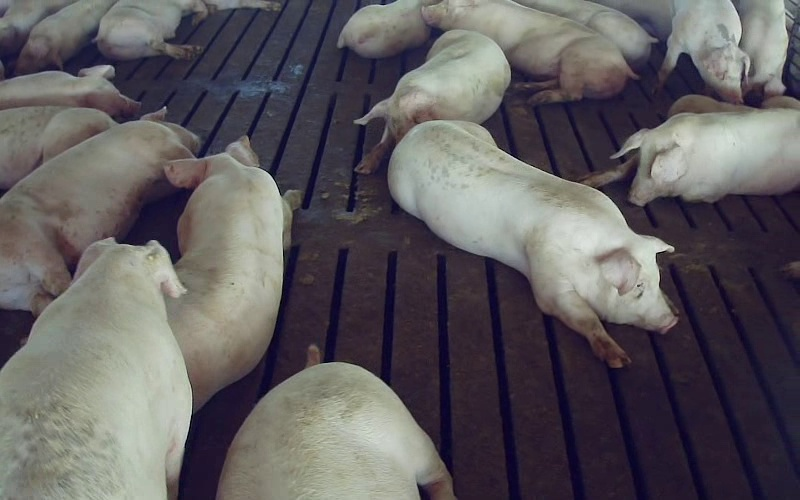pig: (388, 120, 677, 366), (0, 238, 191, 499), (0, 108, 198, 314), (165, 136, 301, 409), (217, 345, 454, 499), (354, 30, 510, 173), (422, 0, 636, 104), (582, 108, 799, 205), (515, 0, 656, 68), (0, 106, 116, 188), (657, 0, 749, 103), (0, 65, 140, 115), (96, 0, 207, 59), (736, 0, 787, 98)
